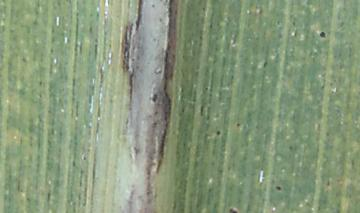tarspot: (151, 93, 159, 103), (228, 207, 238, 213), (319, 31, 326, 39), (275, 185, 282, 192), (235, 122, 241, 129), (216, 130, 221, 136)
